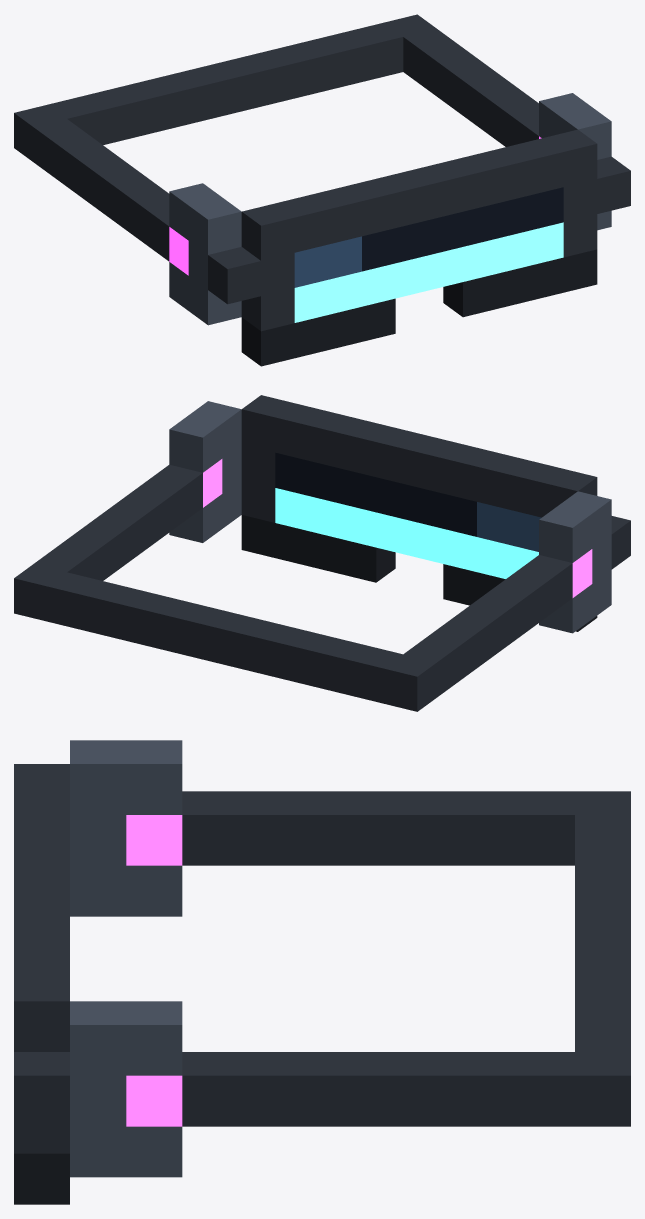
Rendered from acc_visor.glb.
3 views of the same model, one above another, from view 1: azimuth 30°, elevation 25°; view 2: azimuth 150°, elevation 25°; view 3: azimuth 270°, elevation 25° (orthographic). The views are drawn at different scales.
Visible parts, largest first — view 1: acc_visor; view 2: acc_visor; view 3: acc_visor.
Boxes of the visible parts, x1,y1,x2,y2 form: acc_visor: (14,14,630,366); acc_visor: (14,395,630,711); acc_visor: (14,740,630,1204).
Size of the model in its own units: 0.75 by 0.25 by 0.6875.
Materials: 1 (1 with a texture image).
